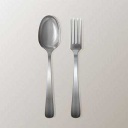fork: (63, 9, 95, 119)
